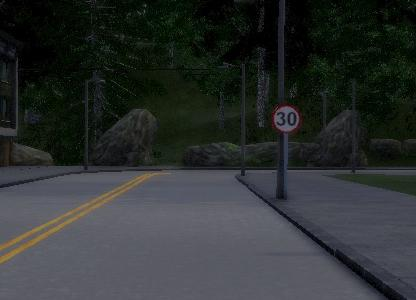Speed_30: (272, 103, 302, 134)
